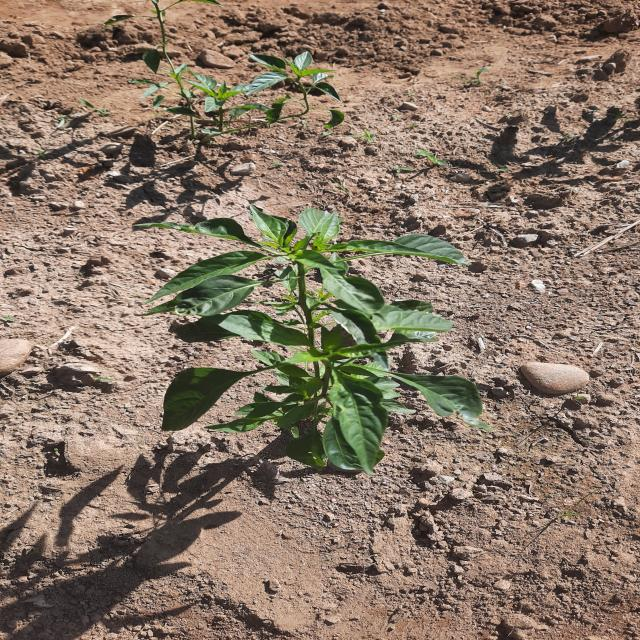sehat: (140, 272, 264, 326), (314, 266, 400, 316)
